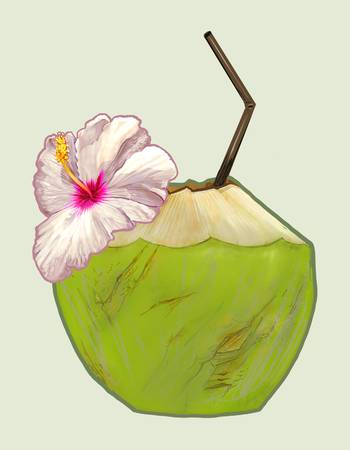Hibiscus: (26, 126, 171, 273)
